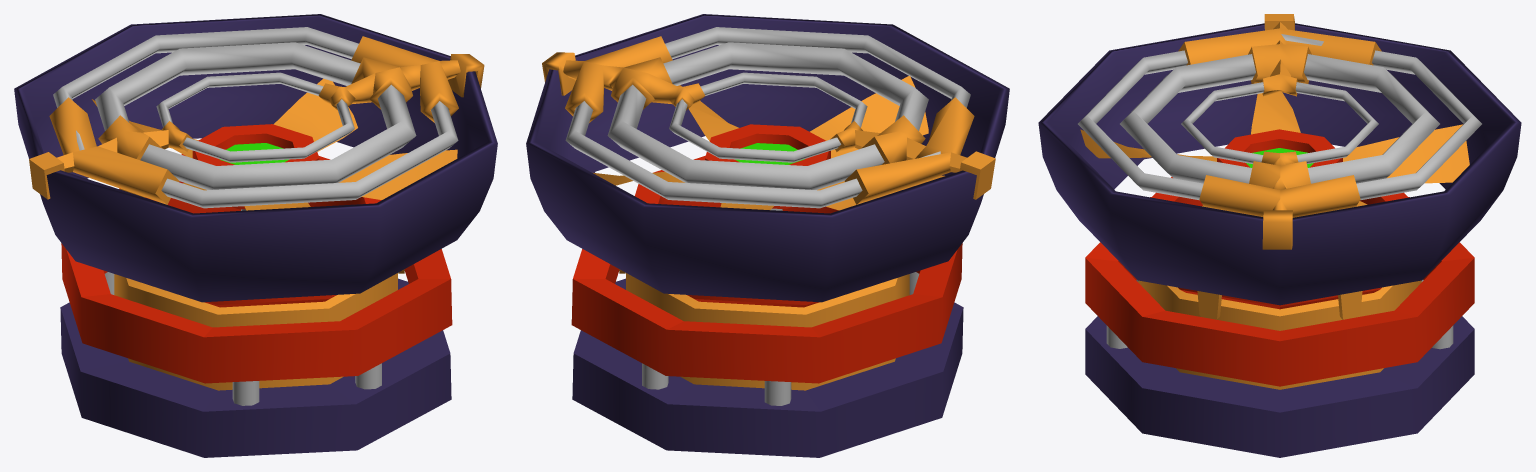
File: SM_WindMachine.fbx
The picture shows the model from 3 angles, left to right: view 1: azimuth 30°, elevation 25°; view 2: azimuth 150°, elevation 25°; view 3: azimuth 270°, elevation 25°; orthographic projection. The views are drawn at different scales.
Visible parts, largest first — view 1: SM_WindMachine, SM_Windmachine_Propeller; view 2: SM_WindMachine, SM_Windmachine_Propeller; view 3: SM_WindMachine, SM_Windmachine_Propeller.
Part boxes in pixels (x1,y1,x2,y2): SM_WindMachine: (14,14,497,457); SM_Windmachine_Propeller: (92,78,457,210); SM_WindMachine: (526,14,1009,457); SM_Windmachine_Propeller: (592,76,944,210); SM_WindMachine: (1038,14,1521,457); SM_Windmachine_Propeller: (1080,91,1469,206).
Size of the model in its own units: 0.0172 by 0.0105 by 0.017.
